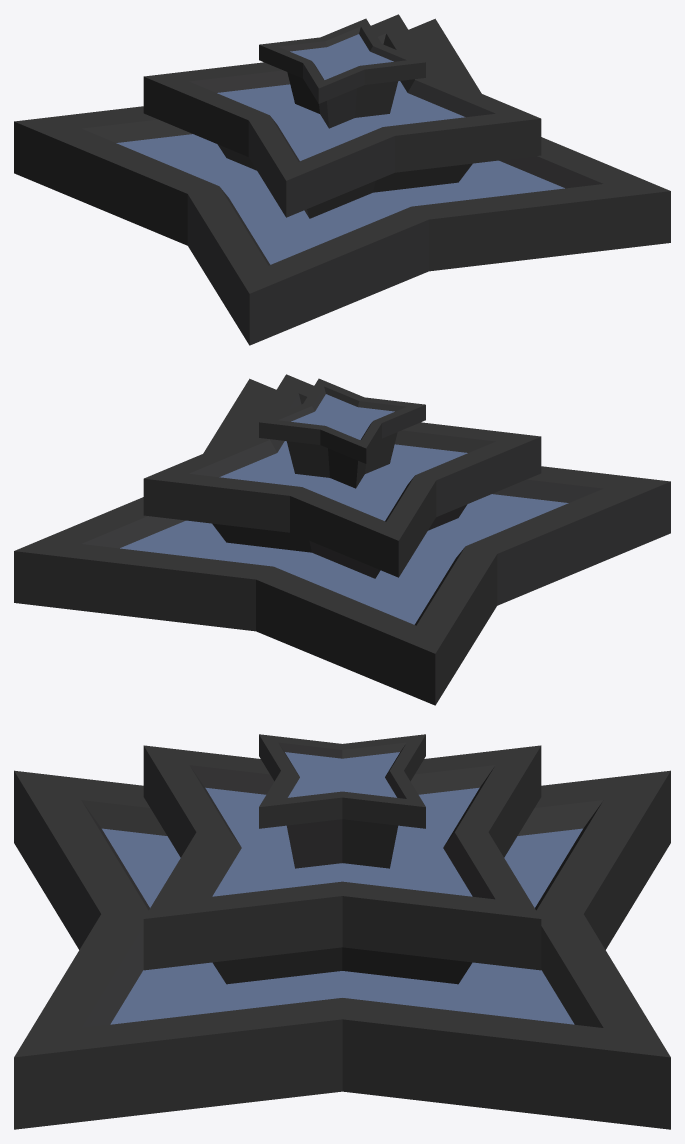
Rendered from fountain4.fbx.
3 renders of one model, top to bottom at view 1: azimuth 30°, elevation 25°; view 2: azimuth 150°, elevation 25°; view 3: azimuth 270°, elevation 25°, orthographic. The views are drawn at different scales.
Parts seen in each view (by area): view 1: Fountain1.004; view 2: Fountain1.004; view 3: Fountain1.004.
Boxes of the visible parts, bbox=[...] form: Fountain1.004: bbox=[14, 14, 670, 345]; Fountain1.004: bbox=[14, 374, 670, 705]; Fountain1.004: bbox=[14, 734, 670, 1129].
Bounding box in the file's own units: 230 × 80.72 × 223.
